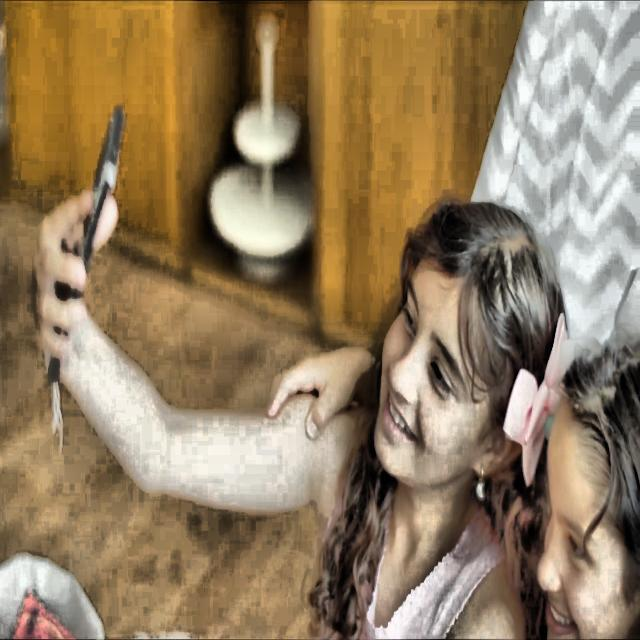Phone: (46, 103, 126, 393)
